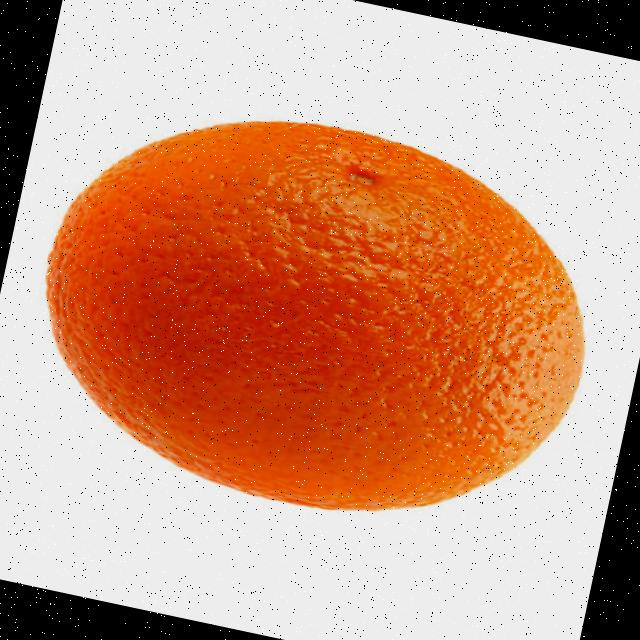Ripe: (3, 70, 630, 564)
